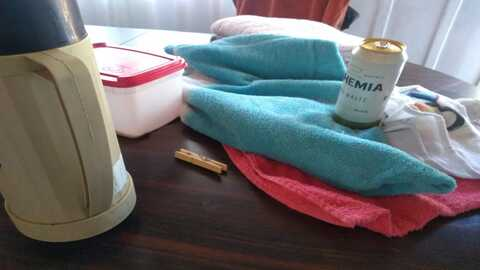bohemia: (336, 38, 405, 124)
